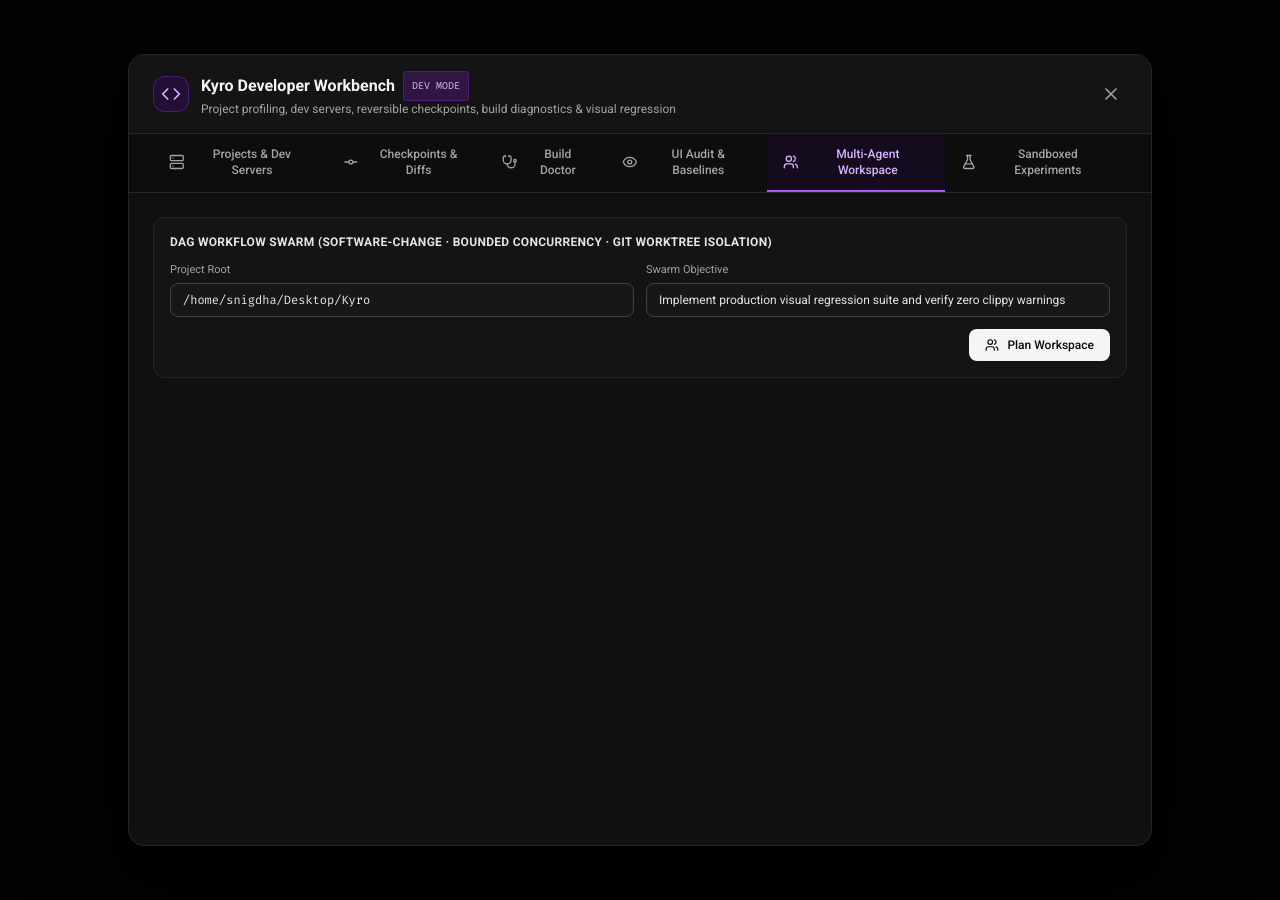
Frontend Climax to 95%+ Coverage Suite › DevWorkbenchModal Advanced Branches › surfaces multi-agent workspace creation errors inline
The width and height of the screenshot is (1280, 900).
Click the button "Plan Workspace" at (1040, 344), box 969,328 -> 1110,360
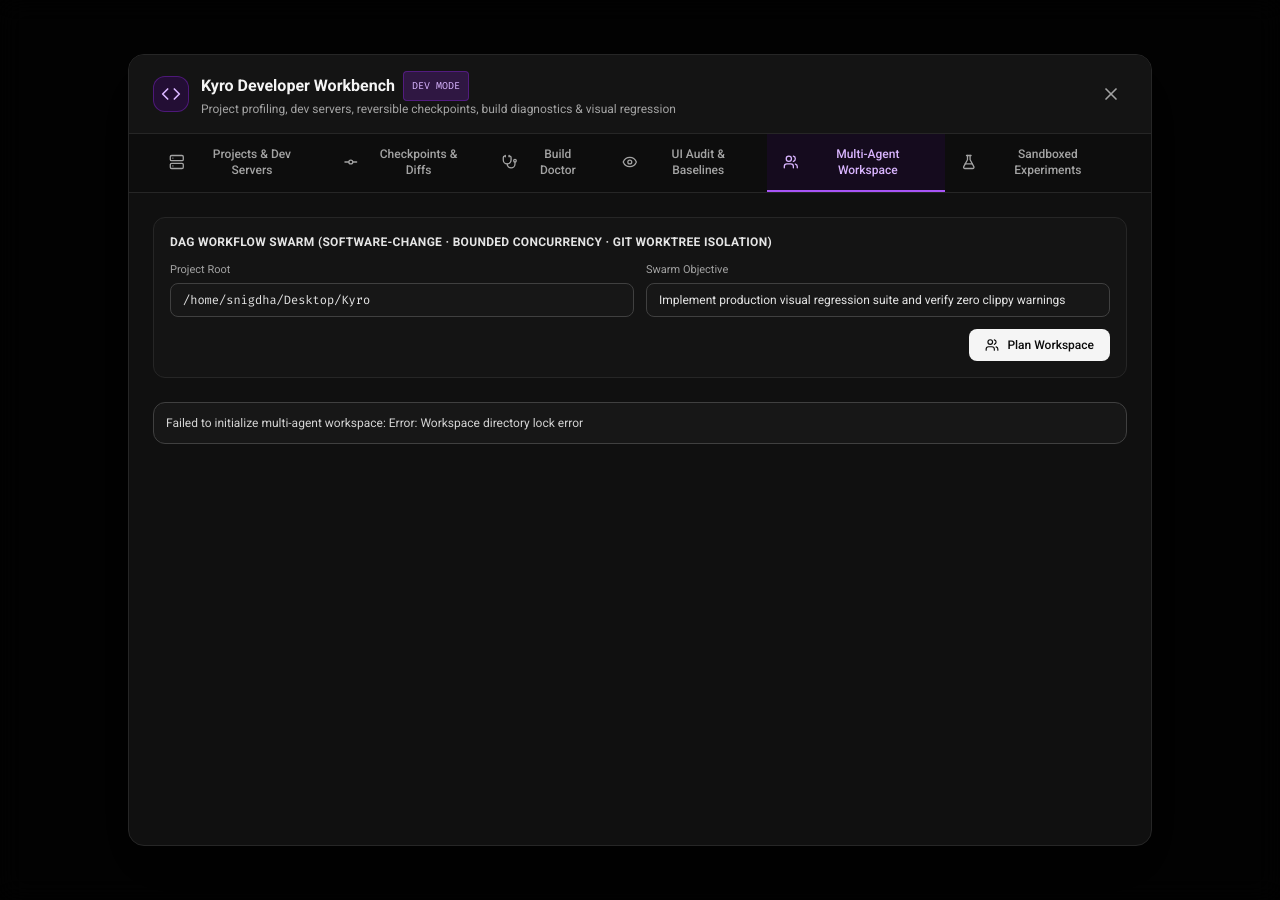
Now the text "Failed to initialize multi-agent workspace" is shown, box 166,416 -> 583,430
